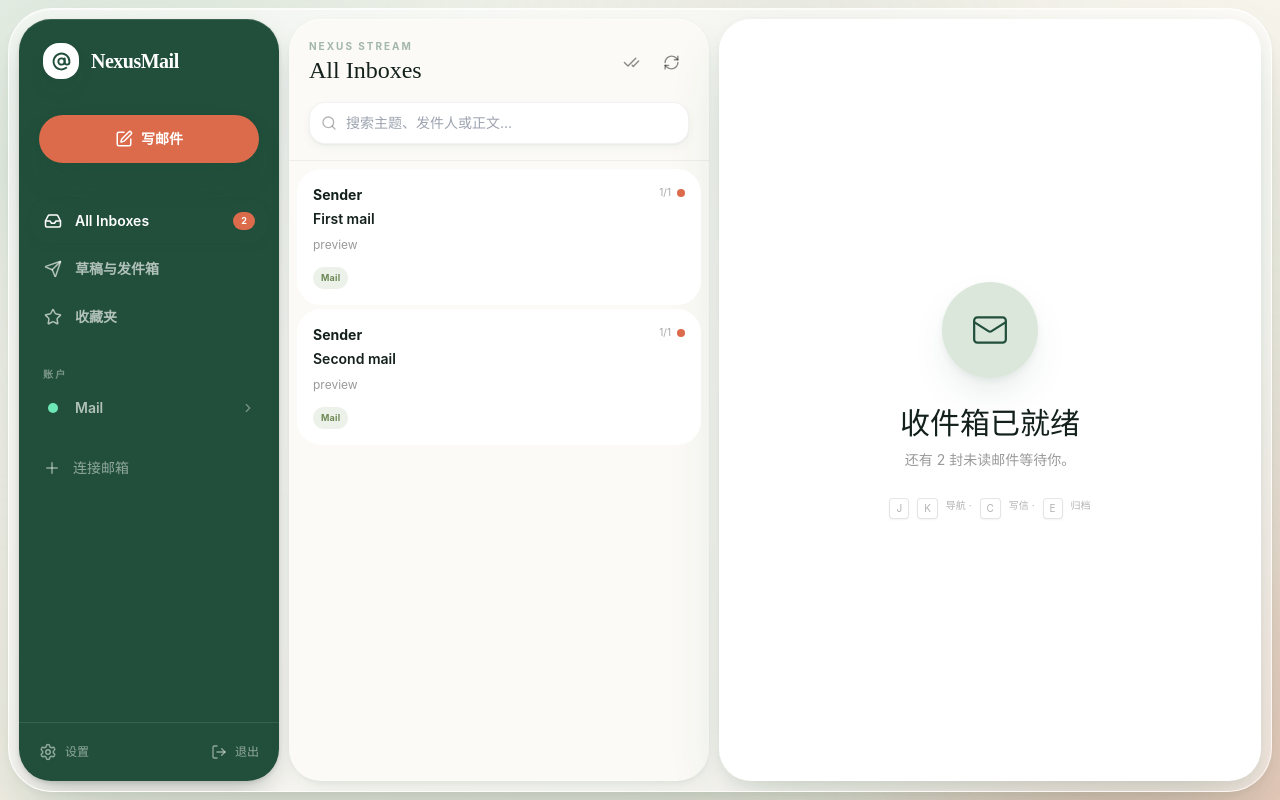
Test: mark the current view read › posts the same scope the feed is showing and reports the count
Expected: the button "Sender 1/1 First mail preview Mail" is shown, [297, 169, 701, 304]
Click the button named "全部已读" at (631, 62), box [613, 44, 649, 80]
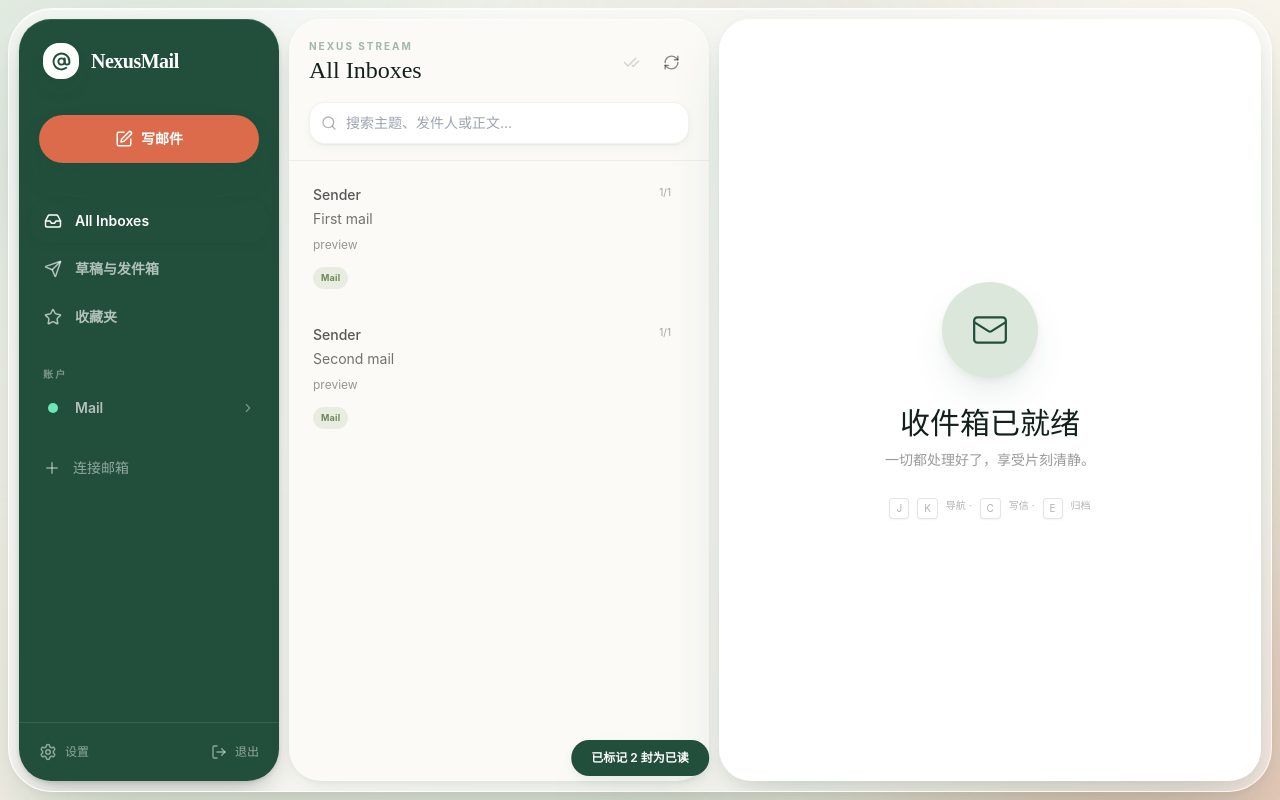
Expected: the message reads "已标记 2 封为已读", [591, 750, 689, 765]
